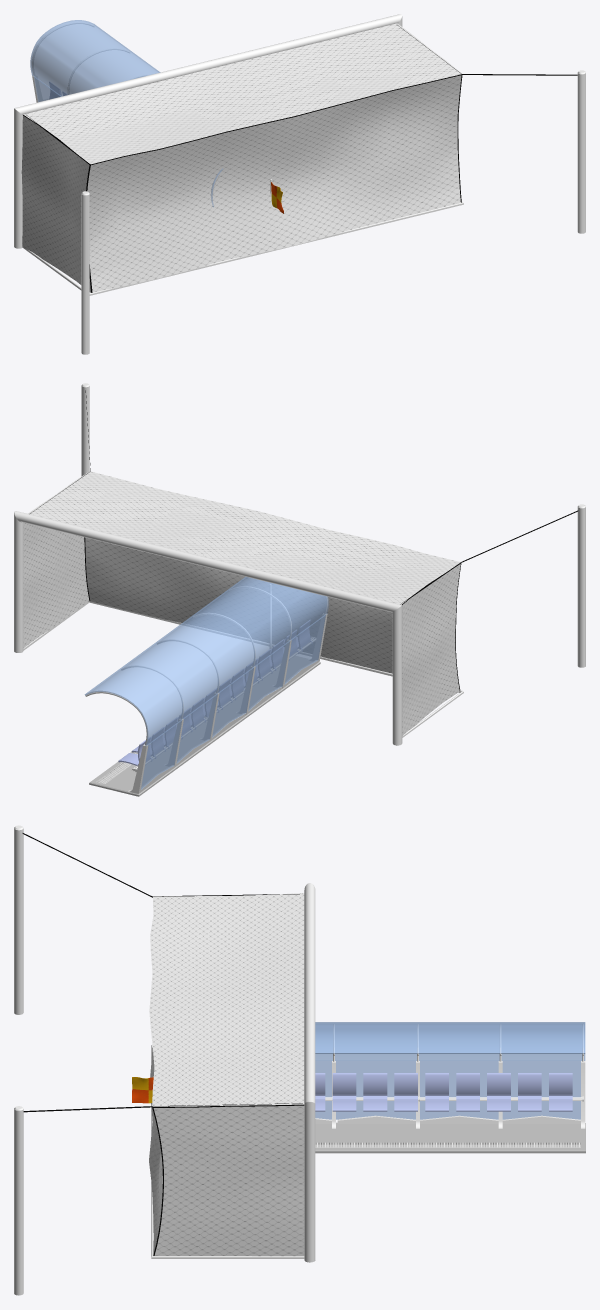
The model's file is FootballPitch.fbx.
The picture shows the model from 3 angles, top to bottom: view 1: azimuth 30°, elevation 25°; view 2: azimuth 150°, elevation 25°; view 3: azimuth 270°, elevation 25°; orthographic projection. The views are drawn at different scales.
Visible parts, largest first — view 1: Goal, Dugout; view 2: Goal, Dugout; view 3: Goal, Dugout.
Boxes of the visible parts, box(x1,y1,x2,y2) form: Goal: box(14, 14, 585, 354); Dugout: box(30, 20, 223, 207); Goal: box(14, 383, 585, 745); Dugout: box(84, 576, 328, 796); Goal: box(14, 825, 315, 1295); Dugout: box(315, 1022, 585, 1153).
Size of what is drawn, in the model's own units: 984 by 302 by 836.
